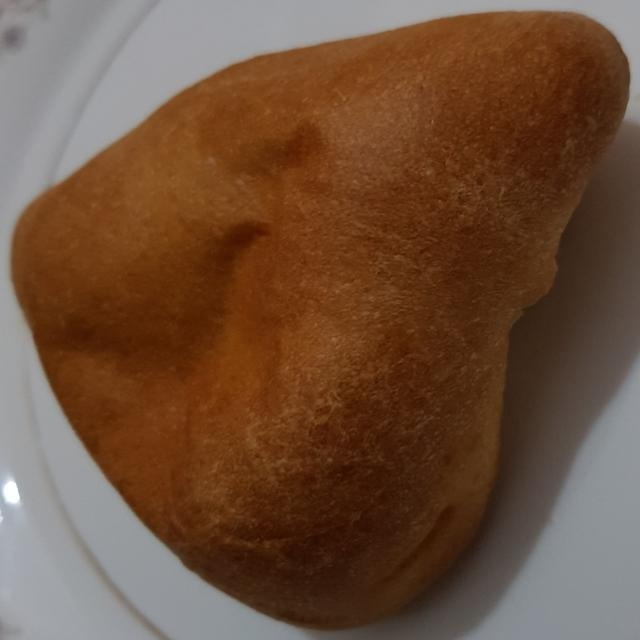Chicken Bun: (10, 8, 633, 632)
